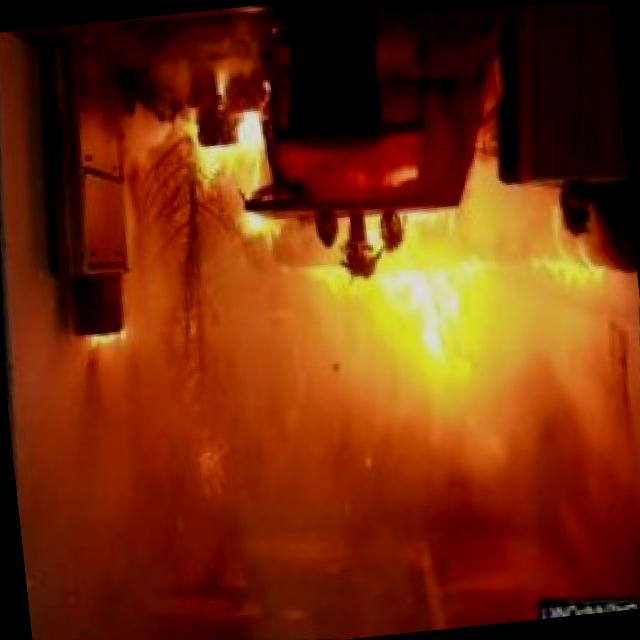fire: (79, 55, 640, 549)
